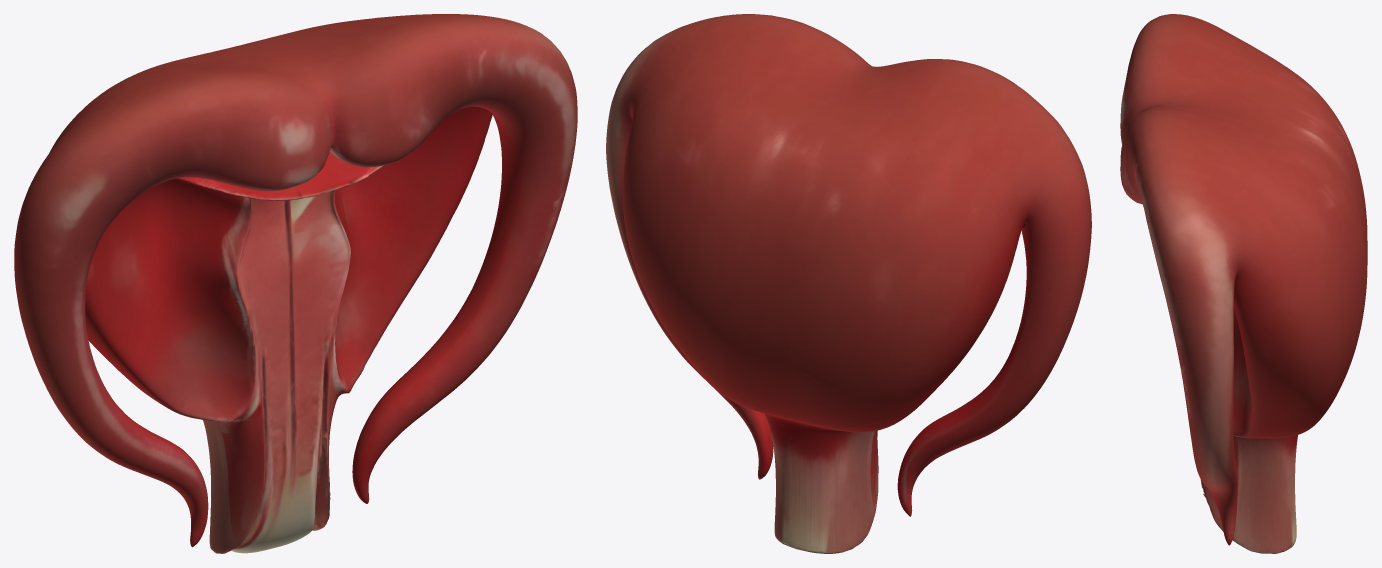
The model's file is vet_v2_organ_dog_uterus.glb.
The picture shows the model from 3 angles, left to right: view 1: azimuth 30°, elevation 25°; view 2: azimuth 150°, elevation 25°; view 3: azimuth 270°, elevation 25°; orthographic projection. The views are drawn at different scales.
Visible parts, largest first — view 1: model; view 2: model; view 3: model.
Part boxes in pixels (left/top/right/bottom): model: left=14, top=14, right=577, bottom=553; model: left=606, top=14, right=1091, bottom=553; model: left=1120, top=14, right=1367, bottom=553.
Size of the model in its own units: 1.9 by 1.75 by 0.8543.
1 material, 1 textured.
